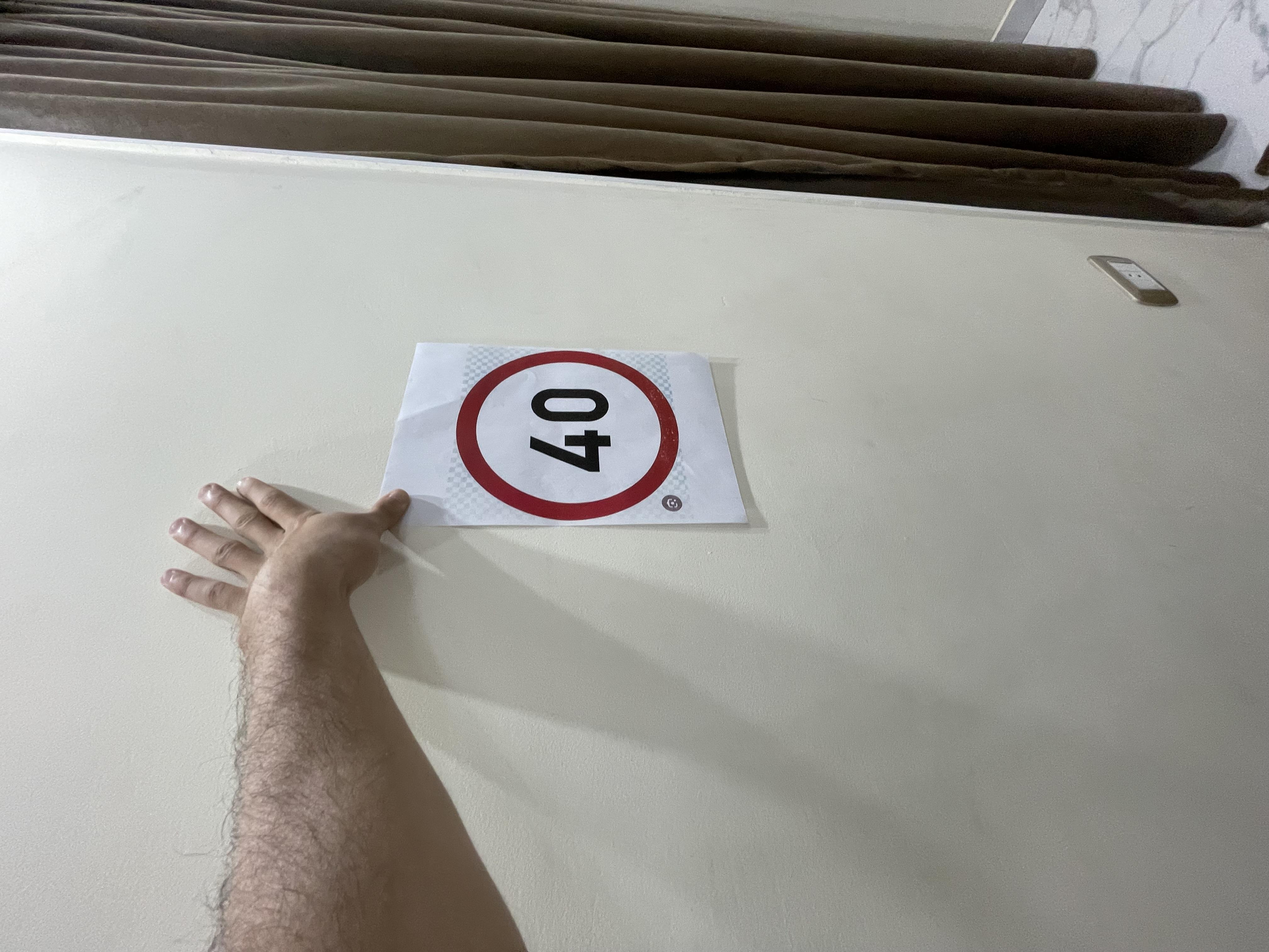40-Speed: (577, 343, 802, 508)
